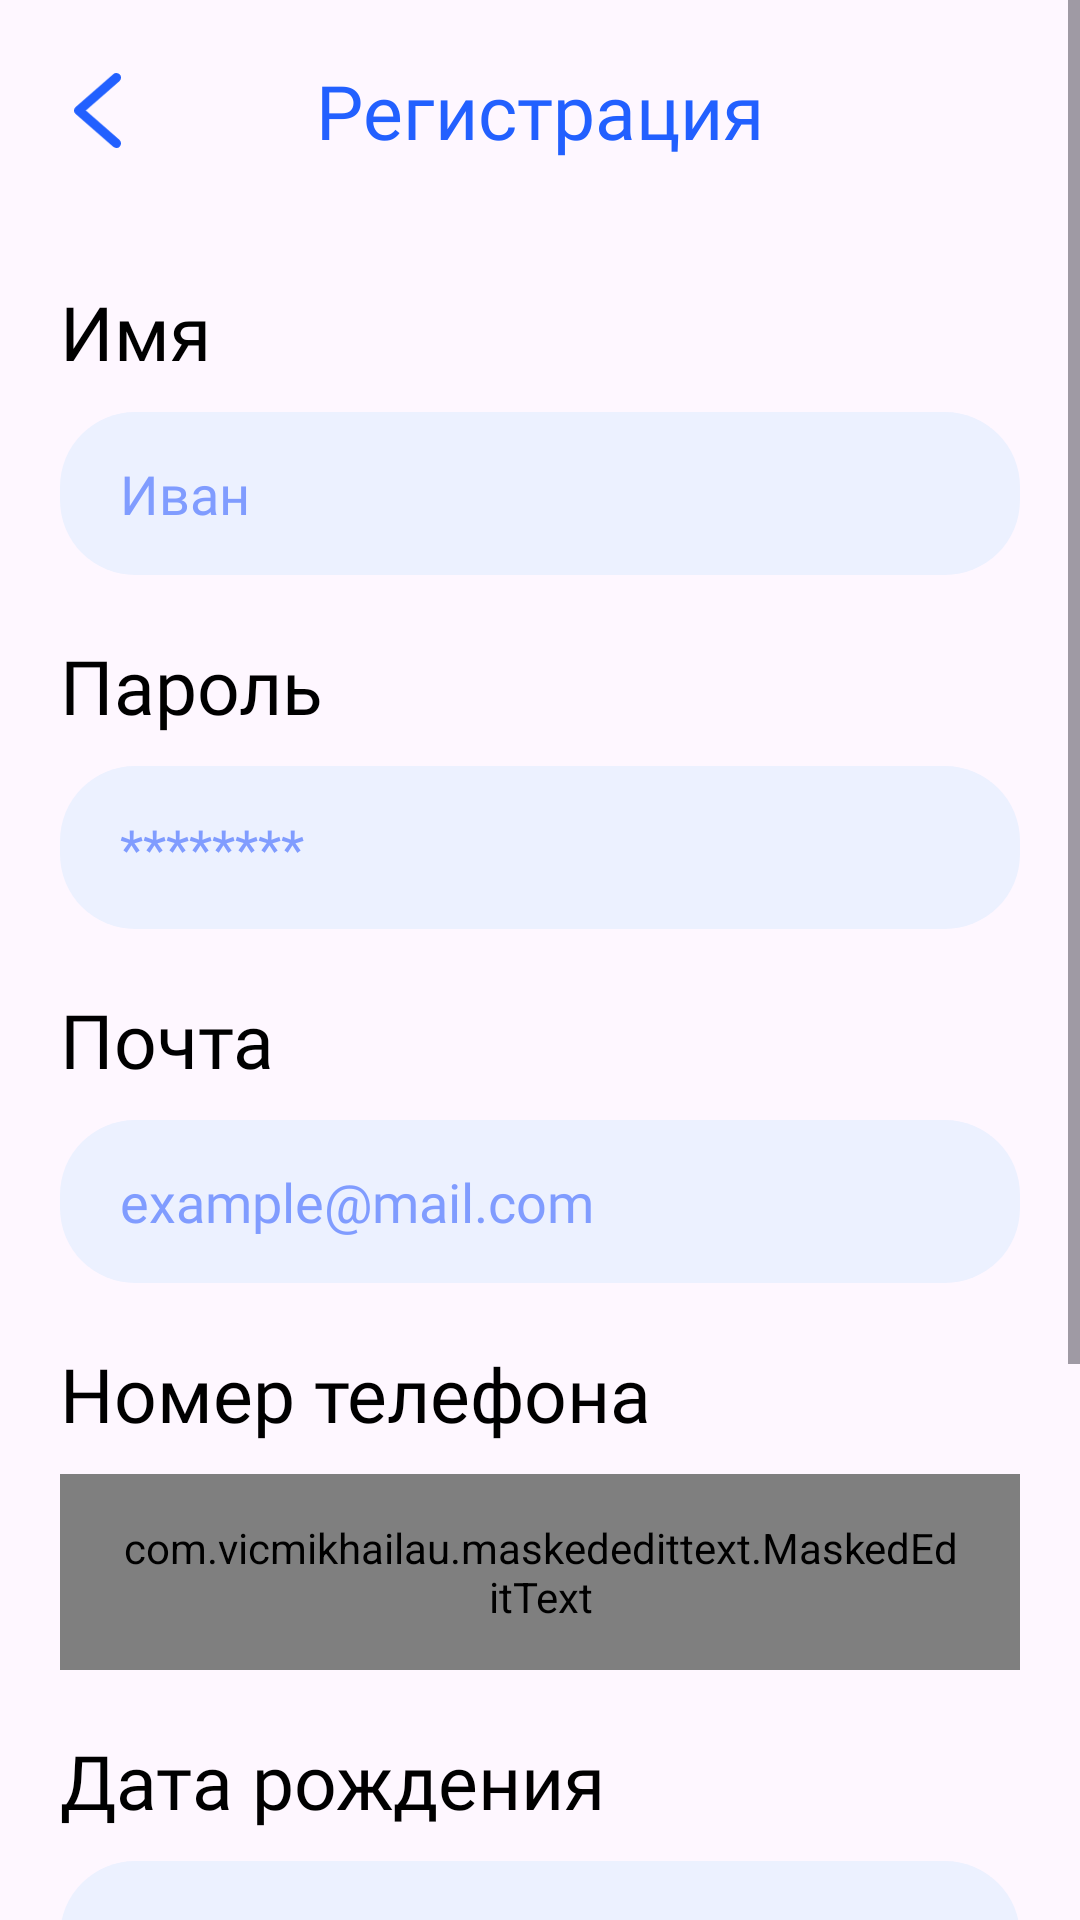

Where to tap for icons on this 1080x1920 app screen, as point (x, y):
arrow back: point (97, 110)
